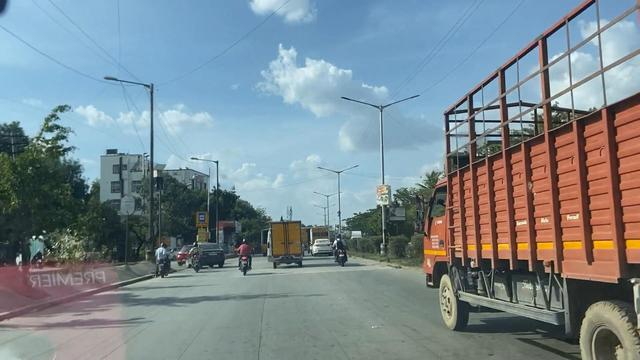HMV: (402, 51, 640, 358)
